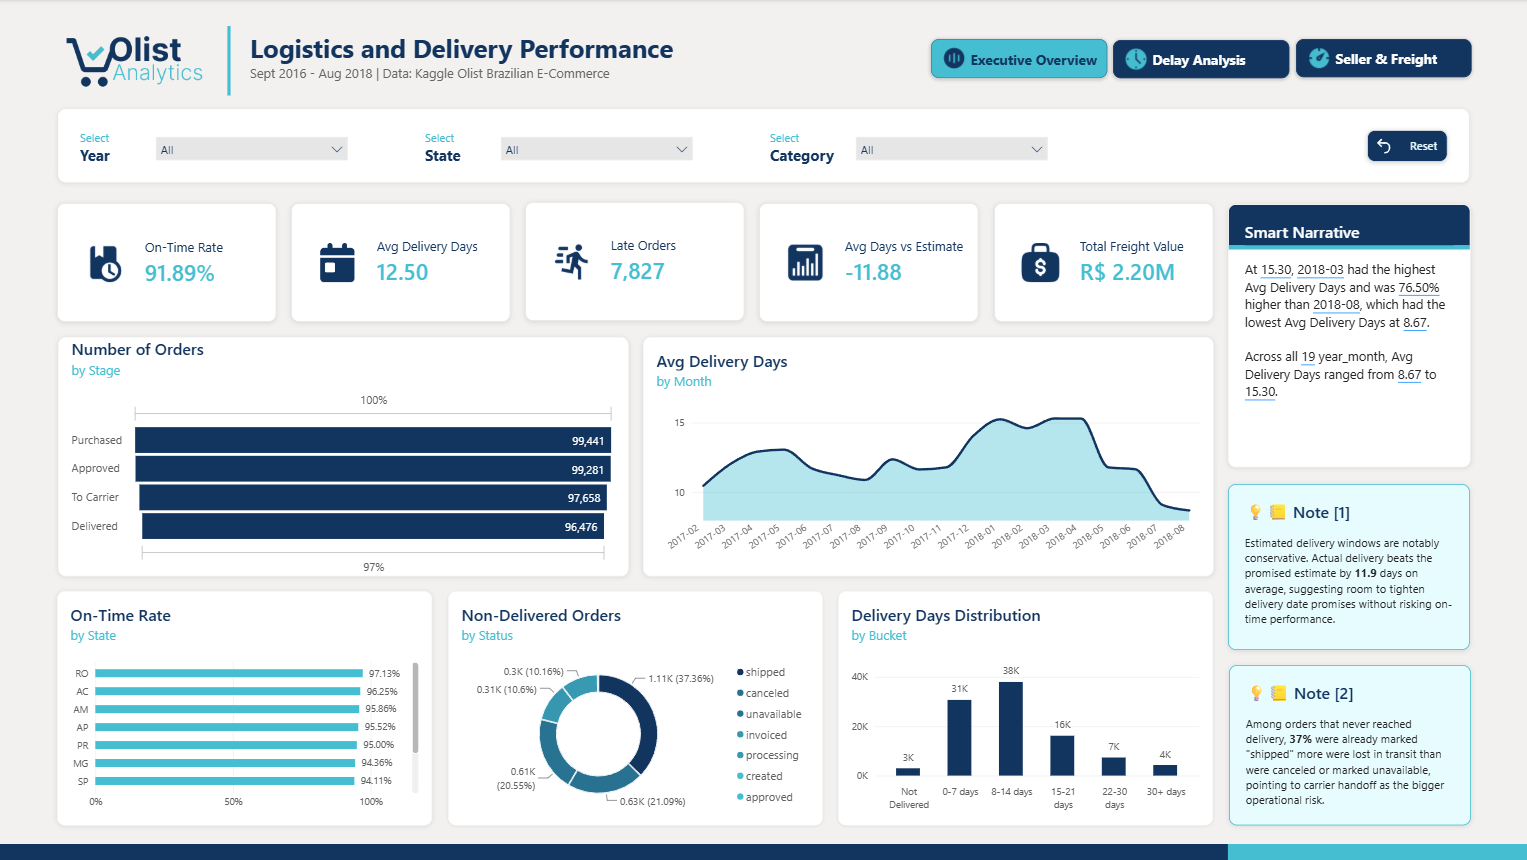

This screenshot's page, from the dashboard's own definition file:
{"tool":"powerbi","page":{"name":"Executive Overview","canvas":[1920,1080],"ordinal":0},"visuals":[{"type":"textbox","box":[316,39.3,559,88],"z":0,"group":"g13"},{"type":"actionButton","box":[1169,50.1,220.5,48.9],"z":0,"group":"g12"},{"type":"shape","box":[75,138.3,1768.3,91.7],"z":0,"group":"g11"},{"type":"textbox","box":[102.9,164.2,90,47.1],"z":0,"group":"g3"},{"type":"textbox","box":[534.5,164.2,90,47.1],"z":0,"group":"g5"},{"type":"textbox","box":[967,164.2,90,47.1],"z":0,"group":"g7"},{"type":"shape","box":[661.1,254.4,275,149.4],"z":0,"group":"g6"},{"type":"shape","box":[954.5,255.5,275,149.4],"z":0,"group":"g8"},{"type":"group","id":"g1","title":"Group 6","box":[74.4,255.6,275,149.4],"z":0,"group":"g10"},{"type":"shape","box":[74.4,255.6,275,149.4],"z":0,"group":"g1"},{"type":"shape","box":[1248.6,255.7,275,149.4],"z":0,"group":"g9"},{"type":"shape","box":[368,256,275,149.4],"z":0,"group":"g4"},{"type":"shape","box":[0,1058.6,1541.4,21.4],"z":0,"group":"g2"},{"type":"group","id":"g2","title":"bottom_bar","box":[0,1058.6,1920,21.4],"z":0},{"type":"textbox","title":"💡📒  Note [2]","box":[1542.2,834.4,303.3,201.1],"z":500},{"type":"image","box":[74.3,39.4,190,77.1],"z":1000,"group":"g13"},{"type":"actionButton","box":[1397.4,51.4,220.5,47.6],"z":1000,"group":"g12"},{"type":"group","id":"g3","title":"Group 1","box":[102.9,164.2,339.6,47.1],"z":1000,"group":"g11"},{"type":"slicer","fields":{"Values":["dim_date.year"]},"box":[192.5,167.8,250,40],"z":1000,"group":"g3"},{"type":"slicer","fields":{"Values":["dim_customer.customer_state"]},"box":[624.9,167.8,250,40],"z":1000,"group":"g5"},{"type":"slicer","fields":{"Values":["dim_product.category_name_en"]},"box":[1070,167.8,250,40],"z":1000,"group":"g7"},{"type":"group","id":"g4","title":"Group 6","box":[368,256,275,149.4],"z":1000,"group":"g10"},{"type":"cardVisual","fields":{"Data":["_Measures.Late Orders"]},"box":[753.1,277.4,181,103],"z":1000,"group":"g6"},{"type":"cardVisual","fields":{"Data":["_Measures.Avg Days vs Estimate"]},"box":[1046.5,278.5,181,103],"z":1000,"group":"g8"},{"type":"cardVisual","fields":{"Data":["_Measures.Total Freight Value"]},"box":[1340.6,278.7,181,103],"z":1000,"group":"g9"},{"type":"cardVisual","fields":{"Data":["_Measures.On-Time Rate"]},"box":[168,279,181,103.1],"z":1000,"group":"g1"},{"type":"cardVisual","fields":{"Data":["_Measures.Avg Delivery Days"]},"box":[460,279,181,103],"z":1000,"group":"g4"},{"type":"textbox","title":"💡📒  Note [1]","box":[1541.1,607.8,303.3,207.8],"z":1000},{"type":"shape","box":[1541.4,1058.6,378.6,21.4],"z":1000,"group":"g2"},{"type":"shape","box":[279.3,34.3,20,87.3],"z":2000,"group":"g13"},{"type":"actionButton","box":[1625.8,50,220,48],"z":2000,"group":"g12"},{"type":"group","id":"g5","title":"Group 2","box":[534.5,164.2,340.4,47.1],"z":2000,"group":"g11"},{"type":"group","id":"g6","title":"Group 6","box":[661.1,254.4,275.6,150],"z":2000,"group":"g10"},{"type":"textbox","title":"Smart Narrative","box":[1541.1,256.7,304.4,330],"z":2000},{"type":"image","box":[693.6,304.4,50.6,49.4],"z":2000,"group":"g6"},{"type":"image","box":[987,305.5,50.6,49.4],"z":2000,"group":"g8"},{"type":"image","box":[106.9,305.6,50.6,49.4],"z":2000,"group":"g1"},{"type":"image","box":[1281.1,305.7,50.6,49.4],"z":2000,"group":"g9"},{"type":"image","box":[400.5,306,50.6,49.4],"z":2000,"group":"g4"},{"type":"group","id":"g7","title":"Group 3","box":[967,164.2,353,47.1],"z":3000,"group":"g11"},{"type":"group","id":"g8","title":"Group 6","box":[954.5,255.5,275.6,150],"z":3000,"group":"g10"},{"type":"clusteredColumnChart","title":"Delivery Days Distribution","fields":{"Category":["fact_deliveries.Delivery Days Bucket"],"Y":["CountNonNull(fact_deliveries.Delivery Days Bucket)"]},"box":[1052.5,741.2,470,294.3],"z":3000},{"type":"actionButton","box":[1715,165,101.2,40],"z":4000,"group":"g11"},{"type":"group","id":"g9","title":"Group 6","box":[1248.6,255.7,275.7,150],"z":4000,"group":"g10"},{"type":"donutChart","title":"Non-Delivered Orders","fields":{"Category":["fact_deliveries.order_status"],"Y":["CountNonNull(fact_deliveries.order_status)"]},"box":[563.4,741.4,470,294.3],"z":4000},{"type":"clusteredBarChart","title":"On-Time Rate","fields":{"Category":["dim_customer.customer_state"],"Y":["_Measures.On-Time Rate"]},"box":[74.3,741.4,470,294.3],"z":5000},{"type":"stackedAreaChart","title":"Avg Delivery Days","fields":{"Category":["dim_date.year_month"],"Y":["_Measures.Avg Delivery Days"]},"box":[807.5,423.8,715,300],"z":6000},{"type":"funnel","title":"Number of Orders","fields":{"Y":["_Measures.Purchased","_Measures.Approved","_Measures.To Carrier","_Measures.Delivered"]},"box":[75,423.8,715,300],"z":7000},{"type":"group","id":"g10","title":"KPI Cards","box":[74.4,254.4,1449.9,151.3],"z":8000},{"type":"group","id":"g11","title":"Filter Section","box":[75,138.3,1768.3,91.7],"z":9000},{"type":"group","id":"g12","title":"Navigation Buttons","box":[1169,50,676.8,49],"z":10000},{"type":"group","id":"g13","title":"Logo & Title","box":[74.3,34.3,800,94.3],"z":11000}]}

Visuals, with their boxes in screenshot pixels (x1, y1, x2, y2), scaled from the page's 1920x1080 canvas onto the 1527x860 screenshot:
textbox: [x1=251, y1=31, x2=696, y2=101]
actionButton: [x1=930, y1=40, x2=1105, y2=79]
shape: [x1=60, y1=110, x2=1466, y2=183]
textbox: [x1=82, y1=131, x2=153, y2=168]
textbox: [x1=425, y1=131, x2=497, y2=168]
textbox: [x1=769, y1=131, x2=841, y2=168]
shape: [x1=526, y1=203, x2=744, y2=322]
shape: [x1=759, y1=203, x2=978, y2=322]
"Group 6" group: [x1=59, y1=204, x2=278, y2=322]
shape: [x1=59, y1=204, x2=278, y2=322]
shape: [x1=993, y1=204, x2=1212, y2=323]
shape: [x1=293, y1=204, x2=511, y2=323]
shape: [x1=0, y1=843, x2=1226, y2=859]
"bottom_bar" group: [x1=0, y1=843, x2=1526, y2=859]
"💡📒  Note [2]" textbox: [x1=1227, y1=664, x2=1468, y2=825]
image: [x1=59, y1=31, x2=210, y2=93]
actionButton: [x1=1111, y1=41, x2=1287, y2=79]
"Group 1" group: [x1=82, y1=131, x2=352, y2=168]
slicer - dim_date.year: [x1=153, y1=134, x2=352, y2=165]
slicer - dim_customer.customer_state: [x1=497, y1=134, x2=696, y2=165]
slicer - dim_product.category_name_en: [x1=851, y1=134, x2=1050, y2=165]
"Group 6" group: [x1=293, y1=204, x2=511, y2=323]
cardVisual - _Measures.Late Orders: [x1=599, y1=221, x2=743, y2=303]
cardVisual - _Measures.Avg Days vs Estimate: [x1=832, y1=222, x2=976, y2=304]
cardVisual - _Measures.Total Freight Value: [x1=1066, y1=222, x2=1210, y2=304]
cardVisual - _Measures.On-Time Rate: [x1=134, y1=222, x2=278, y2=304]
cardVisual - _Measures.Avg Delivery Days: [x1=366, y1=222, x2=510, y2=304]
"💡📒  Note [1]" textbox: [x1=1226, y1=484, x2=1467, y2=649]
shape: [x1=1226, y1=843, x2=1526, y2=859]
shape: [x1=222, y1=27, x2=238, y2=97]
actionButton: [x1=1293, y1=40, x2=1468, y2=78]
"Group 2" group: [x1=425, y1=131, x2=696, y2=168]
"Group 6" group: [x1=526, y1=203, x2=745, y2=322]
"Smart Narrative" textbox: [x1=1226, y1=204, x2=1468, y2=467]
image: [x1=552, y1=242, x2=592, y2=282]
image: [x1=785, y1=243, x2=825, y2=283]
image: [x1=85, y1=243, x2=125, y2=283]
image: [x1=1019, y1=243, x2=1059, y2=283]
image: [x1=319, y1=244, x2=359, y2=283]
"Group 3" group: [x1=769, y1=131, x2=1050, y2=168]
"Group 6" group: [x1=759, y1=203, x2=978, y2=323]
"Delivery Days Distribution" clusteredColumnChart: [x1=837, y1=590, x2=1211, y2=825]
actionButton: [x1=1364, y1=131, x2=1444, y2=163]
"Group 6" group: [x1=993, y1=204, x2=1212, y2=323]
"Non-Delivered Orders" donutChart: [x1=448, y1=590, x2=822, y2=825]
"On-Time Rate" clusteredBarChart: [x1=59, y1=590, x2=433, y2=825]
"Avg Delivery Days" stackedAreaChart: [x1=642, y1=337, x2=1211, y2=576]
"Number of Orders" funnel: [x1=60, y1=337, x2=628, y2=576]
"KPI Cards" group: [x1=59, y1=203, x2=1212, y2=323]
"Filter Section" group: [x1=60, y1=110, x2=1466, y2=183]
"Navigation Buttons" group: [x1=930, y1=40, x2=1468, y2=79]
"Logo & Title" group: [x1=59, y1=27, x2=695, y2=102]
